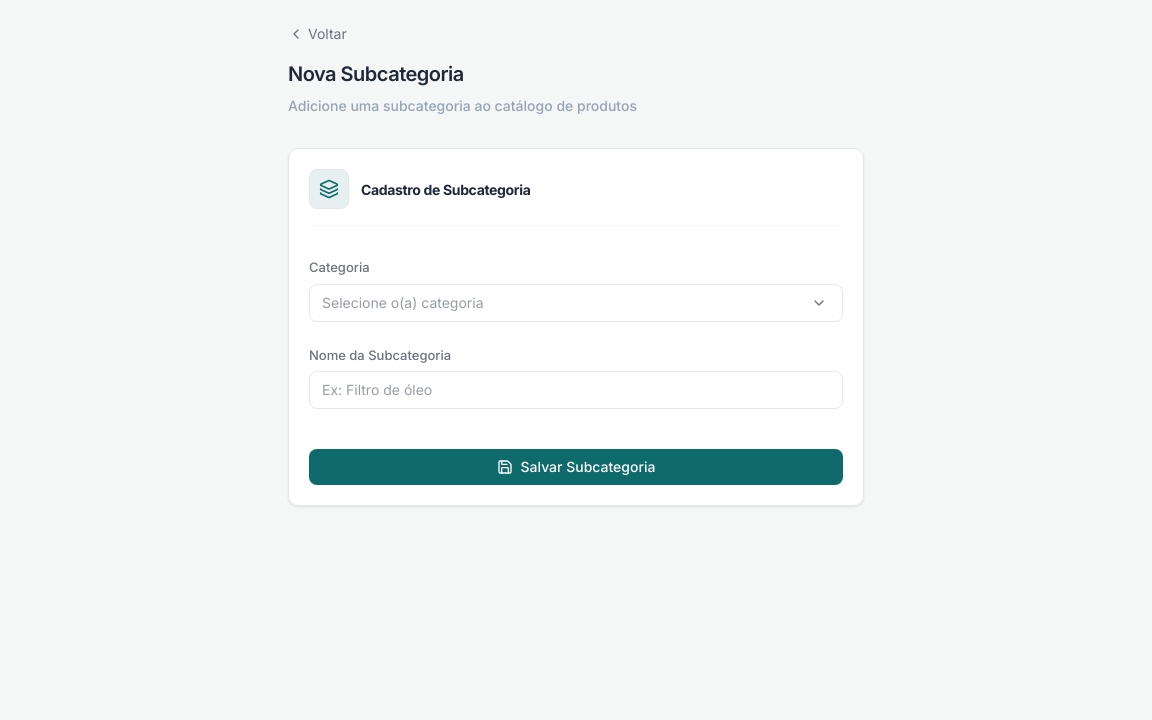
Scenario: <ProductSubcategoryCreate> › cadastra uma nova categoria direto pelo modal, sem navegar pra fora da página
Click the dropdown.
click(576, 302)  # box [309, 284, 843, 322]
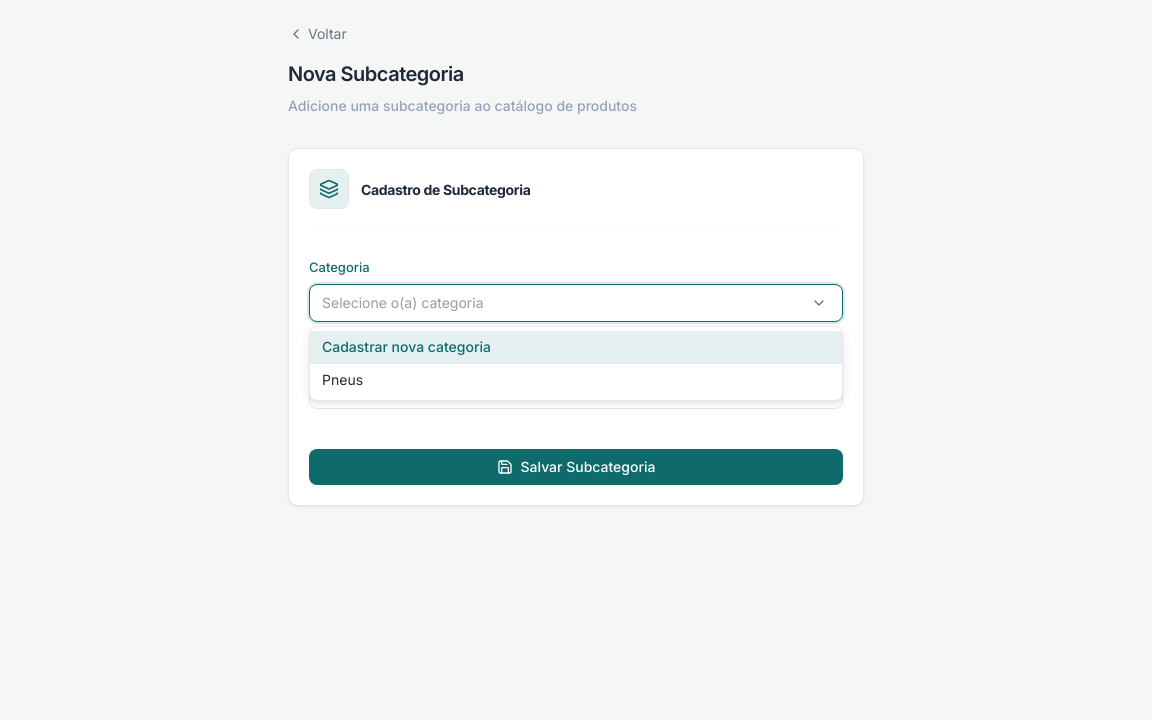
Click the option "Cadastrar nova categoria".
click(406, 346)  # box [310, 331, 842, 364]
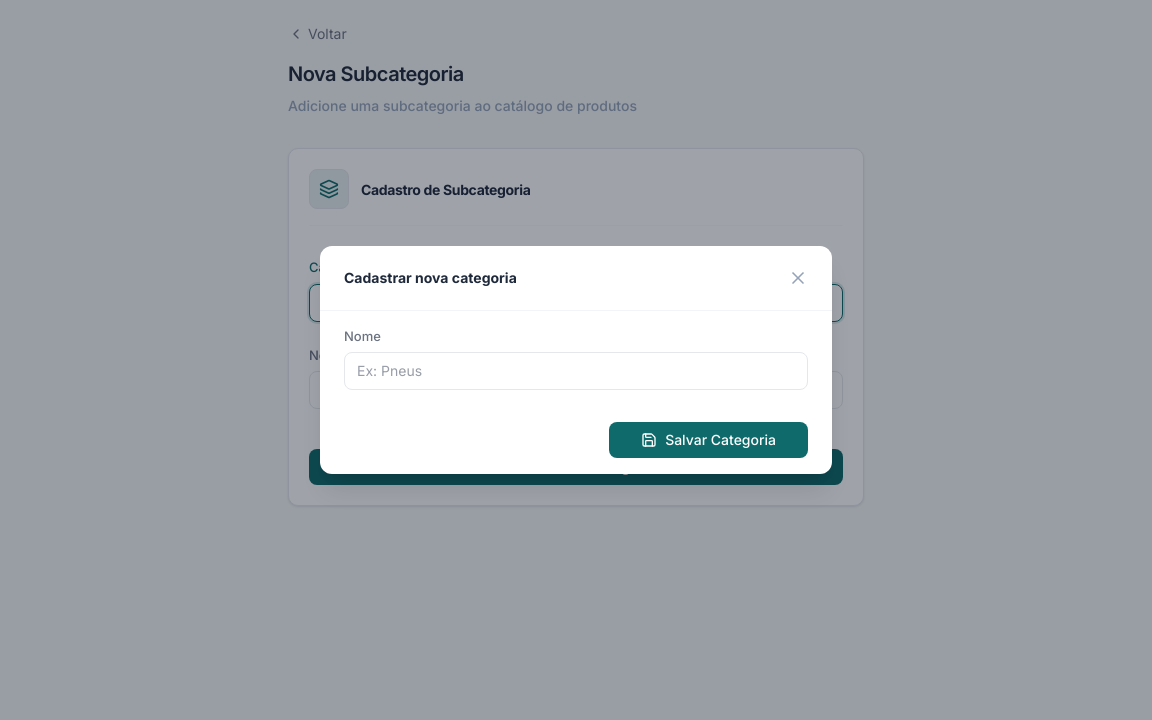
Type "Baterias" into the field with placeholder "Ex: Pneus".
click(576, 371); type("Baterias")  # box [344, 352, 808, 390]
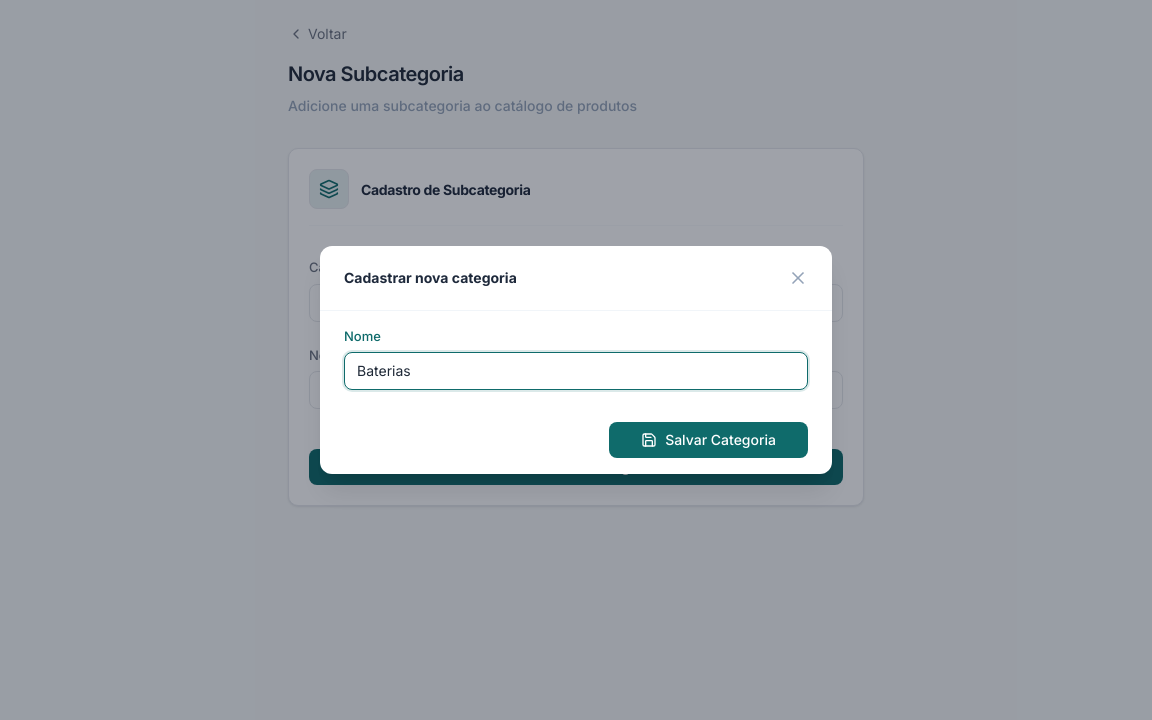
Click the button "Salvar Categoria".
click(709, 440)  # box [609, 422, 808, 458]
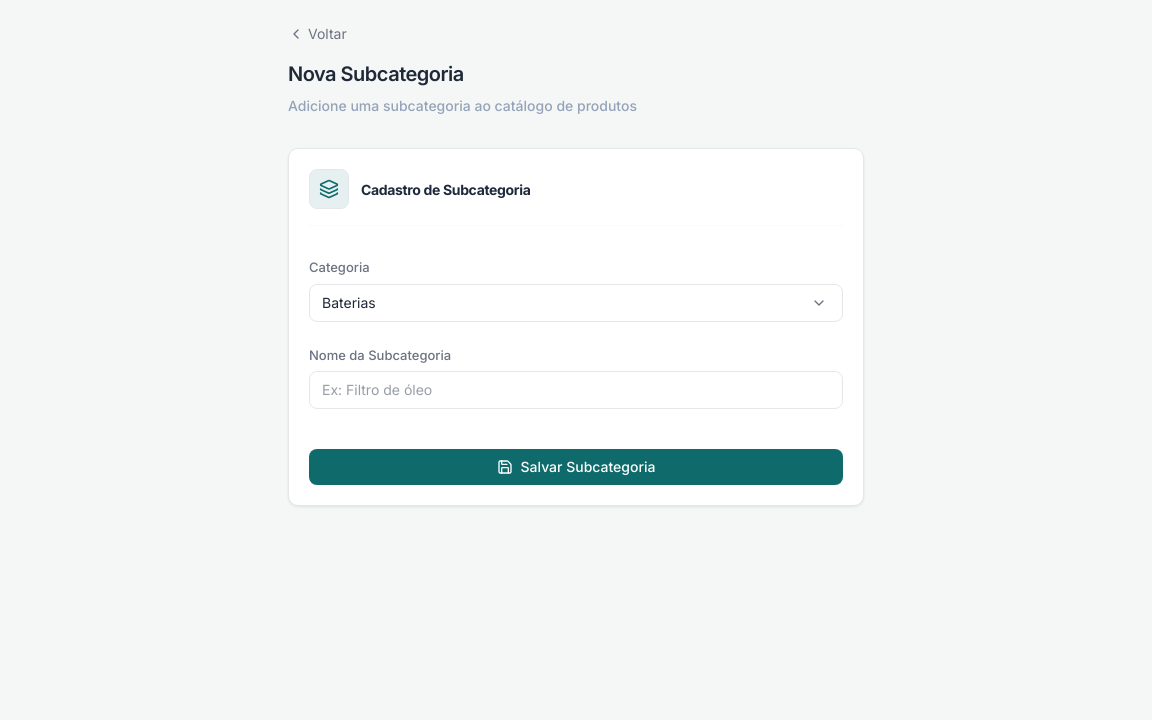
Expected: the dialog is gone
Expected: the dropdown holds "Baterias", [309, 284, 843, 322]
